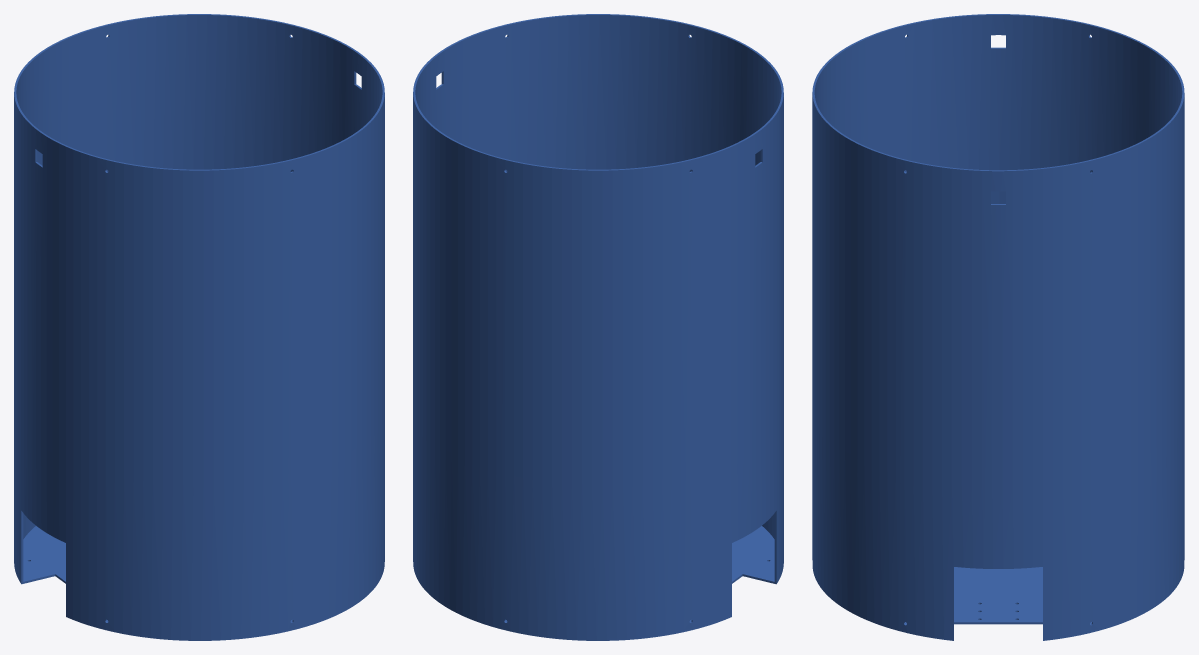
The picture shows the model from 3 angles, left to right: view 1: azimuth 30°, elevation 25°; view 2: azimuth 150°, elevation 25°; view 3: azimuth 270°, elevation 25°; orthographic projection.
Visible parts, largest first — view 1: Har Base; view 2: Har Base; view 3: Har Base.
Part boxes in pixels (x1,y1,x2,y2): Har Base: (14,14,384,640); Har Base: (413,14,783,640); Har Base: (812,14,1184,640).
Bounding box in the file's own units: 0.5 × 0.5 × 0.7066.
